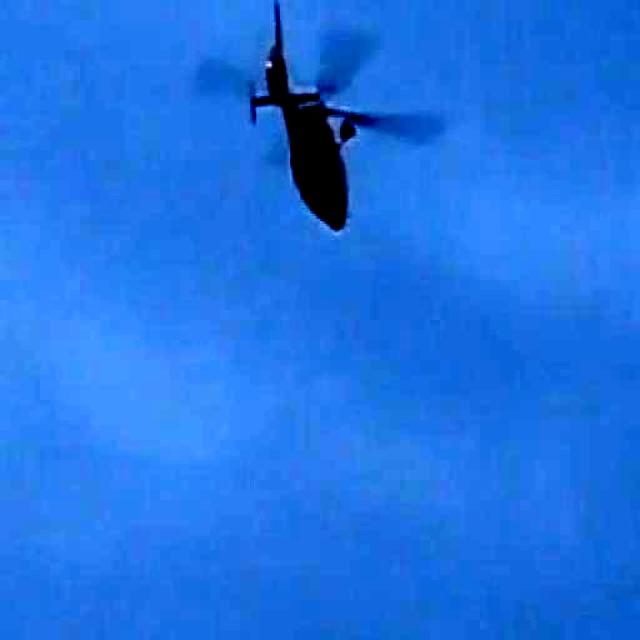drone: (249, 0, 380, 236)
